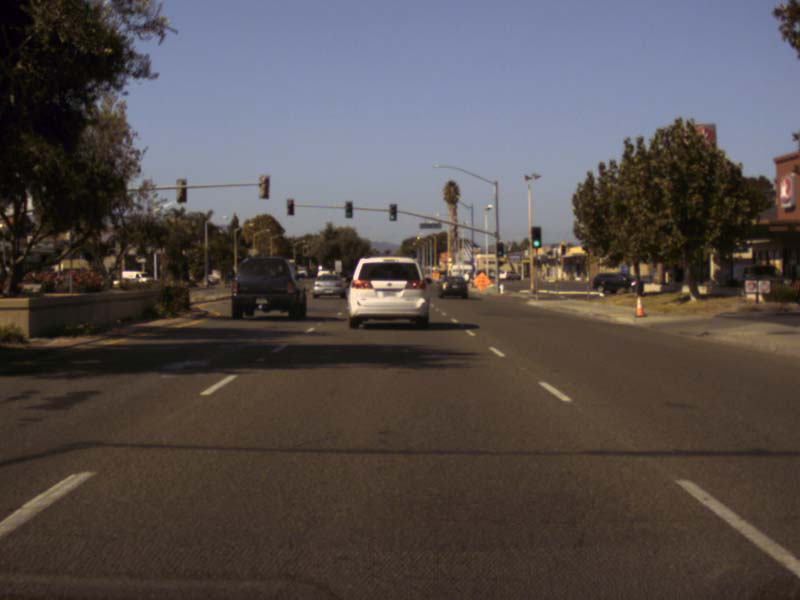Green: (530, 226, 541, 248), (344, 201, 351, 217), (496, 242, 503, 257), (389, 203, 395, 219)
Red: (286, 198, 293, 214)
